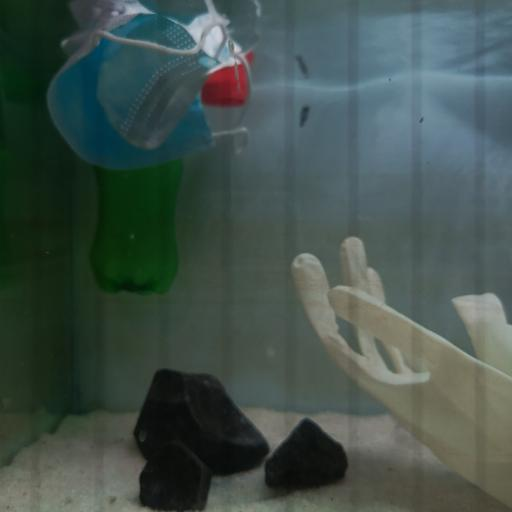mask: (47, 11, 252, 173)
